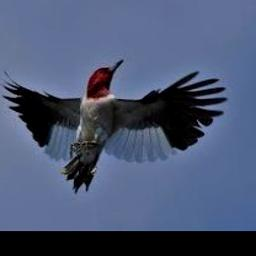Woodpecker: (1, 60, 226, 193)
